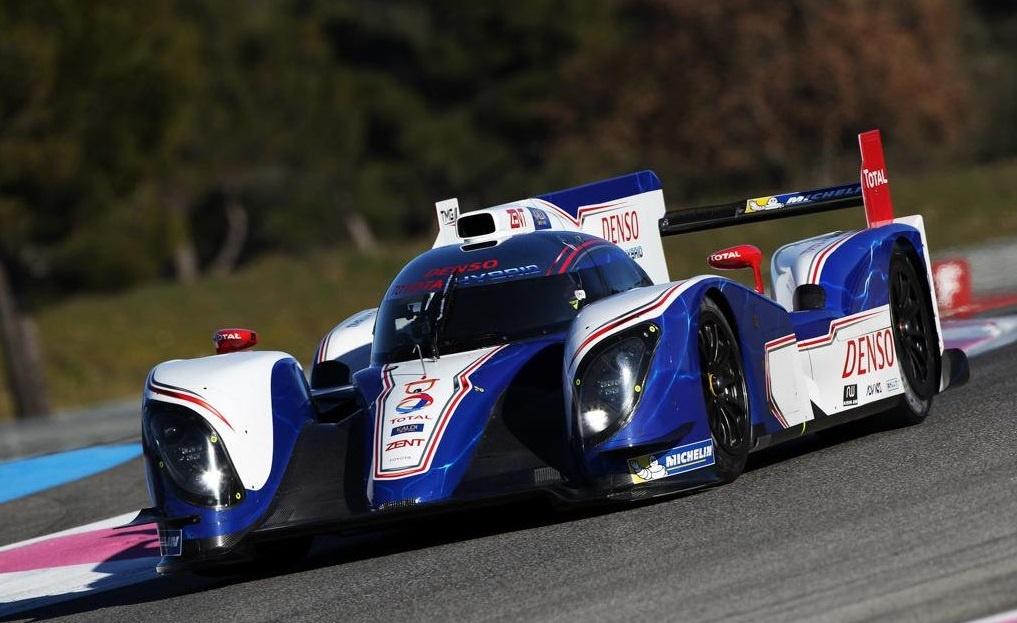racing car: (147, 148, 944, 558)
